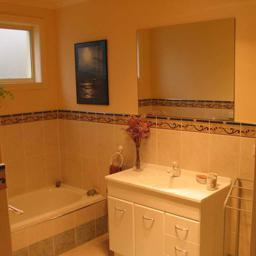Lavamanos: (141, 160, 199, 196)
